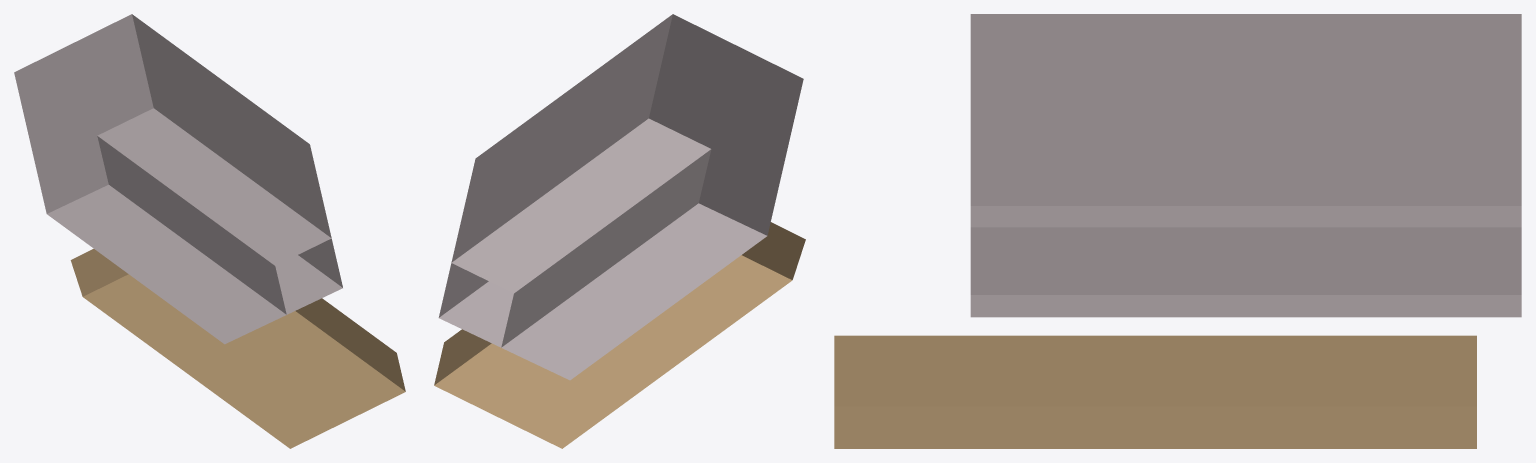
3 views of the same model, side by side, from view 1: azimuth 30°, elevation 25°; view 2: azimuth 150°, elevation 25°; view 3: azimuth 270°, elevation 25° (orthographic). The views are drawn at different scales.
Parts seen in each view (by area): view 1: 0_2_3_2_1_1_3_1_3; view 2: 0_2_3_2_1_1_3_1_3; view 3: 0_2_3_2_1_1_3_1_3.
Boxes of the visible parts, box(x1,y1,x2,y2) form: 0_2_3_2_1_1_3_1_3: box(14, 14, 405, 448); 0_2_3_2_1_1_3_1_3: box(434, 14, 805, 448); 0_2_3_2_1_1_3_1_3: box(834, 14, 1521, 448).
Bounding box in the file's own units: 9.91 × 14.33 × 22.46.
